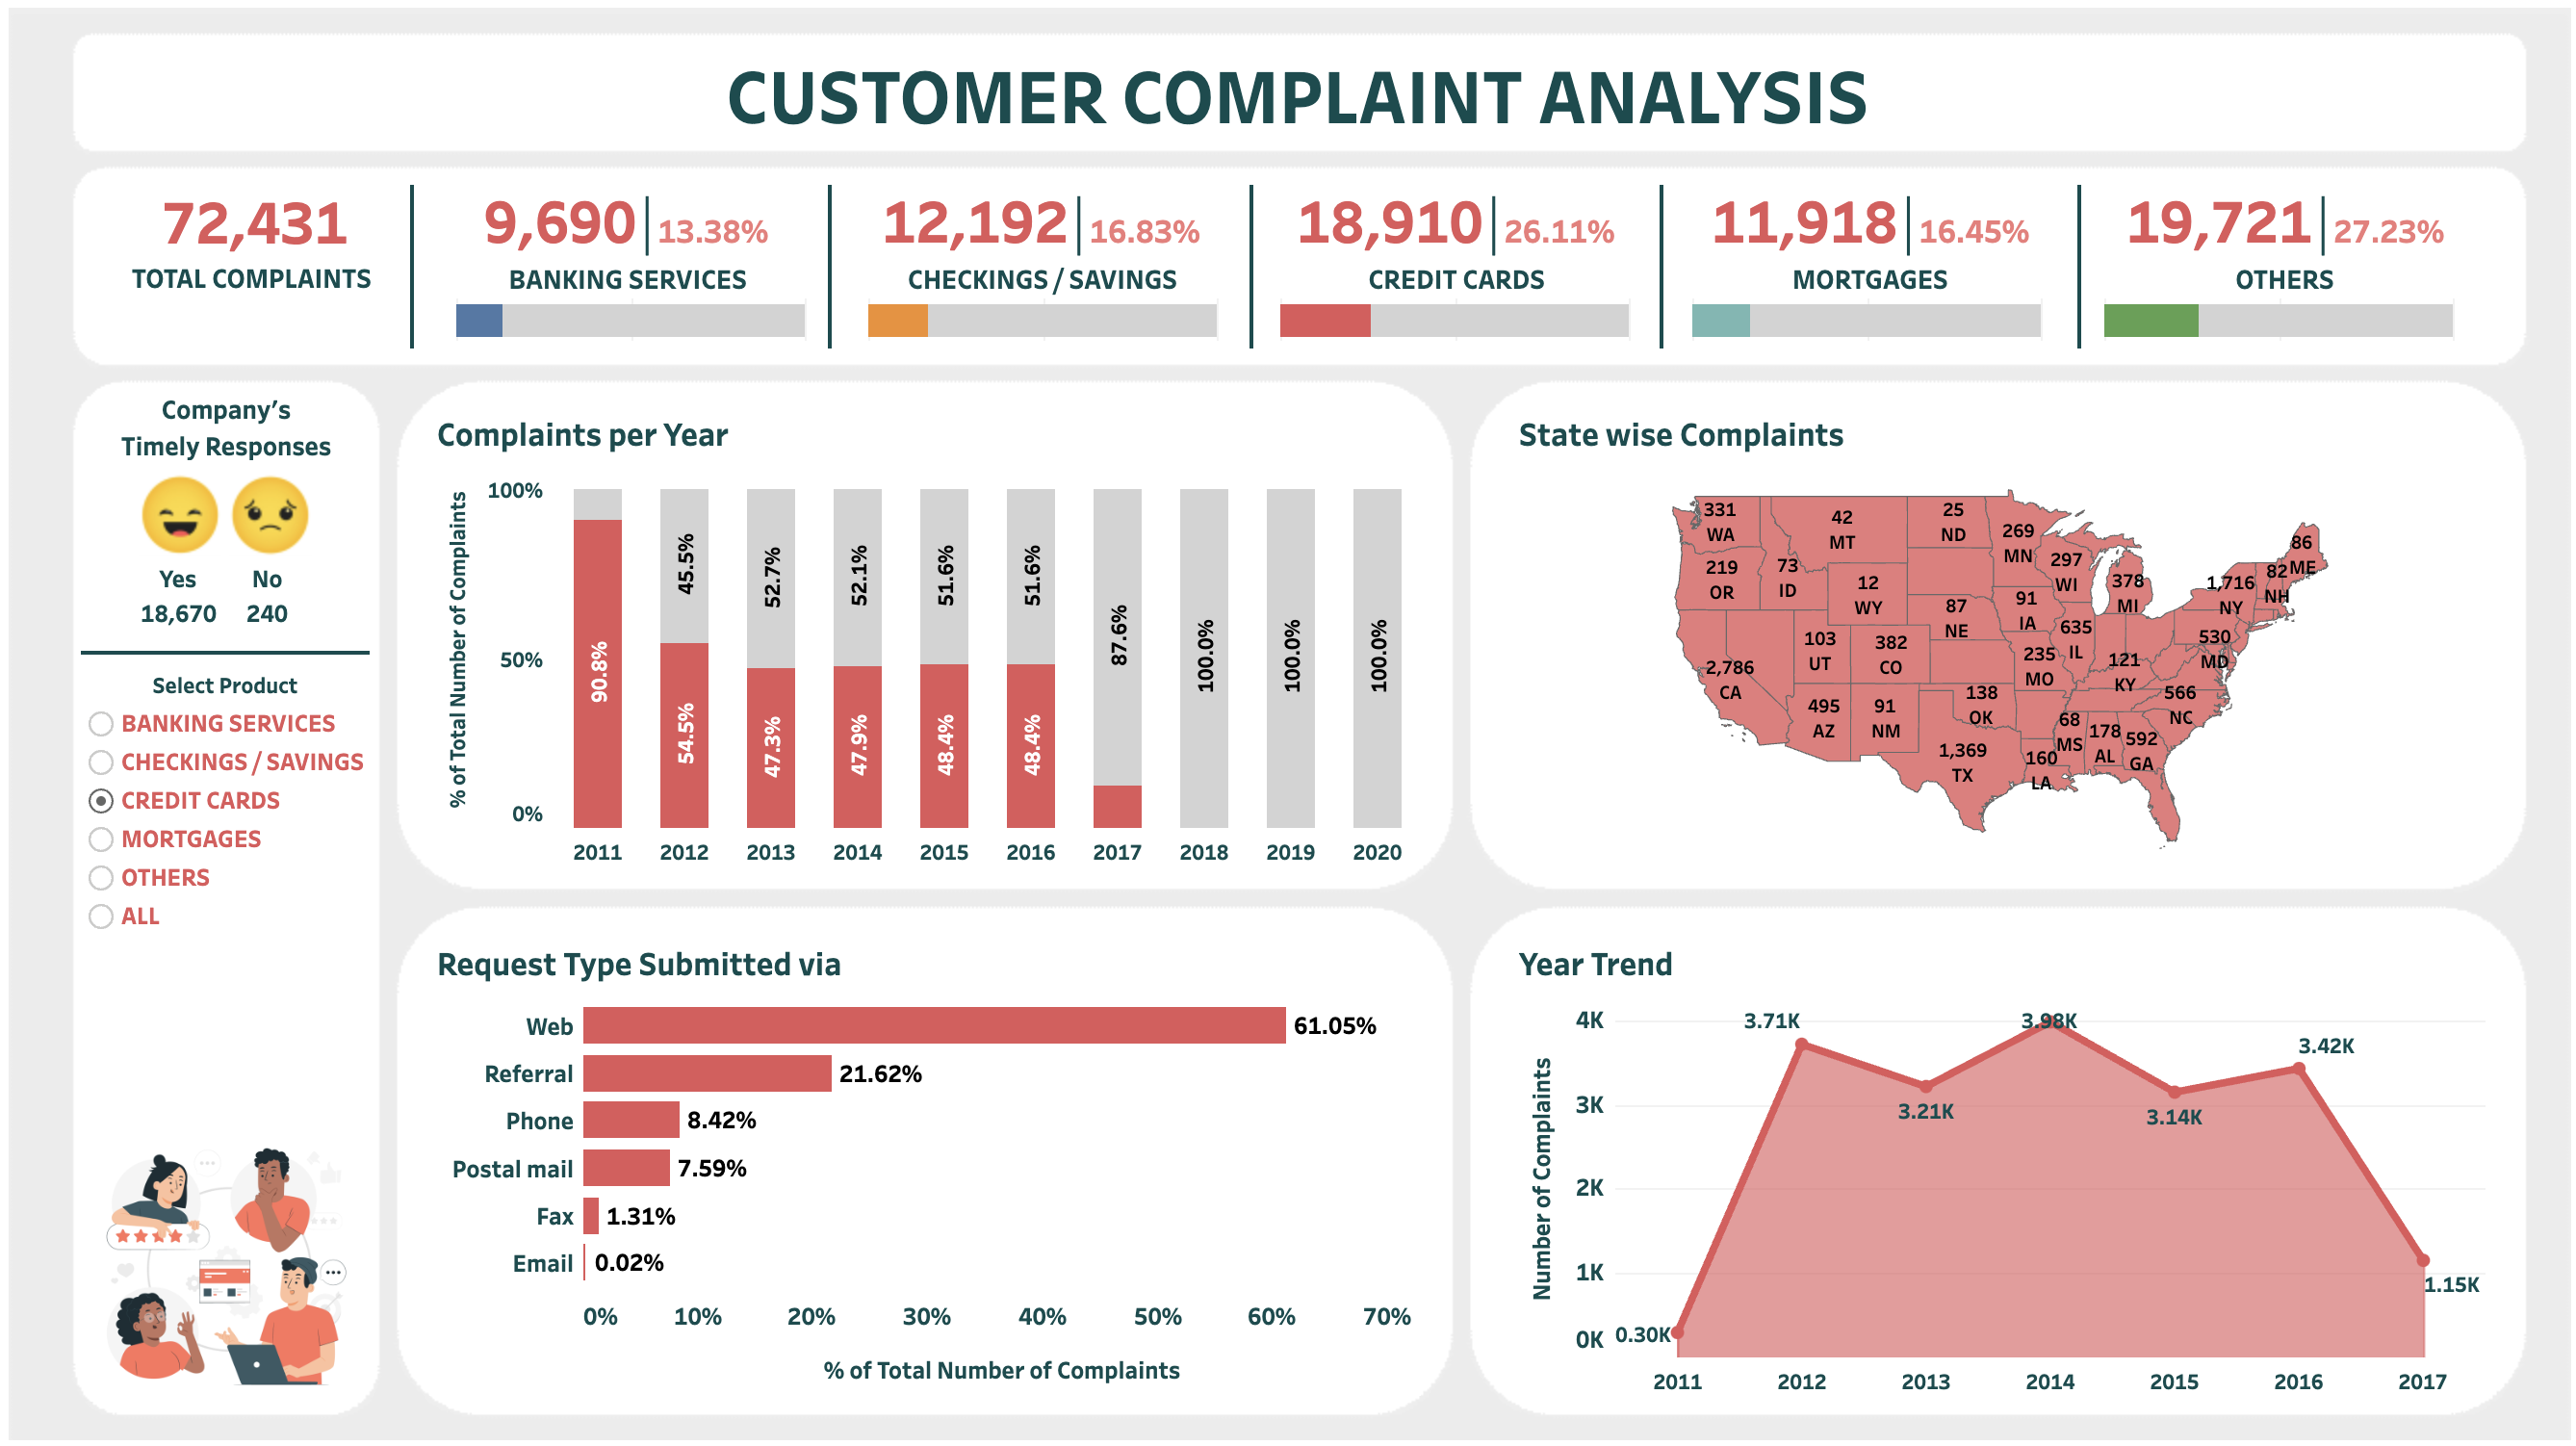

Layout of this report page (visuals, bound fields, positions):
{"tool":"tableau","page":{"name":"Dashboard 1","canvas":[1366,768],"ordinal":0},"visuals":[{"type":"image","param":"Image/BG4.png","box":[8,8,1350,752]},{"type":"text","box":[56,34,1262,45]},{"type":"worksheet","title":"Tot_Complaints","mark":"Automatic","box":[63,99,160,66]},{"type":"worksheet","title":"KPI_2","mark":"Automatic","box":[230,99,1077,66]},{"type":"blank","box":[226,104,2,85]},{"type":"blank","box":[443,104,2,85]},{"type":"blank","box":[662,104,2,85]},{"type":"blank","box":[875,104,2,85]},{"type":"blank","box":[1092,104,2,85]},{"type":"worksheet","title":"KPI_Progress","mark":"Bar","cols":["Calculation_516506632316305425","Number of Complaints"],"box":[250,163,1070,22]},{"type":"text","box":[73,211,115,36]},{"type":"worksheet","title":"Complaints per Year","mark":"Bar","cols":["Date Received"],"box":[236,215,515,243]},{"type":"worksheet","title":"State wise Complaints","mark":"Multipolygon","box":[798,215,508,243]},{"type":"worksheet","title":"Company Responses","mark":"Shape","box":[79,248,111,91]},{"type":"blank","box":[55,346,150,2]},{"type":"parameter","param":"[Parameters].[Parameter 1]","box":[55,356,150,157]},{"type":"worksheet","title":"Request Type","mark":"Automatic","rows":["Submitted via"],"box":[236,490,515,243]},{"type":"worksheet","title":"Year Trend","mark":"Automatic","rows":["Number of Complaints","Number of Complaints"],"cols":["Date Received"],"box":[798,490,506,243]}]}

Visuals, with their boxes in screenshot pixels (x1, y1, x2, y2), scaled from the page's 1366x768 canvas onto the 2576x1446 screenshot:
image: Rect(15, 15, 2561, 1431)
text: Rect(106, 64, 2486, 149)
"Tot_Complaints" worksheet: Rect(118, 187, 421, 311)
"KPI_2" worksheet: Rect(434, 187, 2464, 311)
blank: Rect(426, 195, 430, 356)
blank: Rect(836, 195, 839, 356)
blank: Rect(1249, 195, 1252, 356)
blank: Rect(1650, 195, 1654, 356)
blank: Rect(2059, 195, 2063, 356)
"KPI_Progress" worksheet (Bar marks): Rect(472, 307, 2489, 349)
text: Rect(138, 398, 354, 465)
"Complaints per Year" worksheet (Bar marks): Rect(445, 404, 1416, 863)
"State wise Complaints" worksheet (Multipolygon marks): Rect(1505, 404, 2462, 863)
"Company Responses" worksheet (Shape marks): Rect(149, 467, 358, 638)
blank: Rect(104, 652, 387, 656)
parameter: Rect(104, 670, 387, 966)
"Request Type" worksheet: Rect(445, 922, 1416, 1381)
"Year Trend" worksheet: Rect(1505, 922, 2460, 1381)
